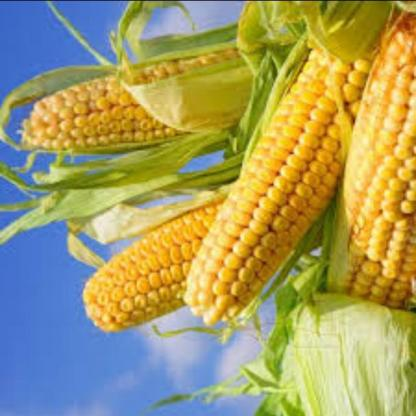corn: (186, 50, 372, 340), (2, 27, 270, 166), (318, 4, 416, 316), (79, 190, 245, 340)
